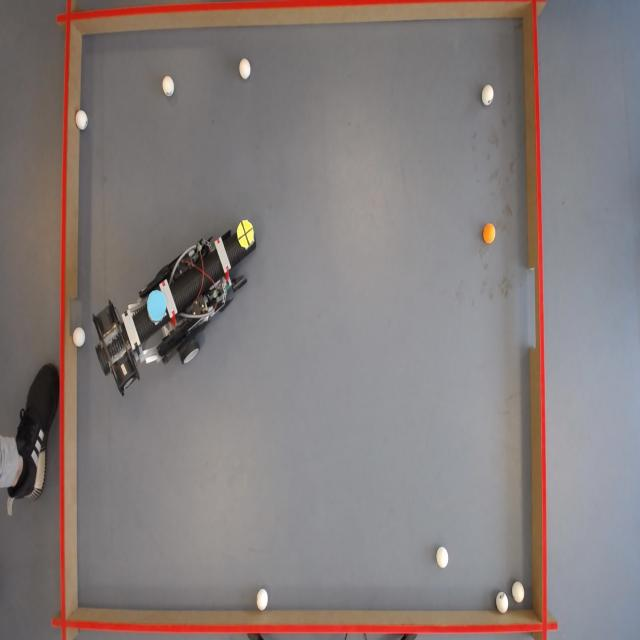orange: (484, 225, 498, 245)
robot: (90, 216, 264, 391)
robot-front: (237, 219, 256, 250)
robot-rear: (146, 286, 169, 322)
white: (437, 546, 451, 570), (255, 589, 269, 612), (162, 77, 176, 98), (75, 109, 88, 131), (482, 86, 496, 106), (496, 593, 509, 614), (514, 582, 526, 604), (240, 58, 252, 80), (73, 327, 86, 347)
